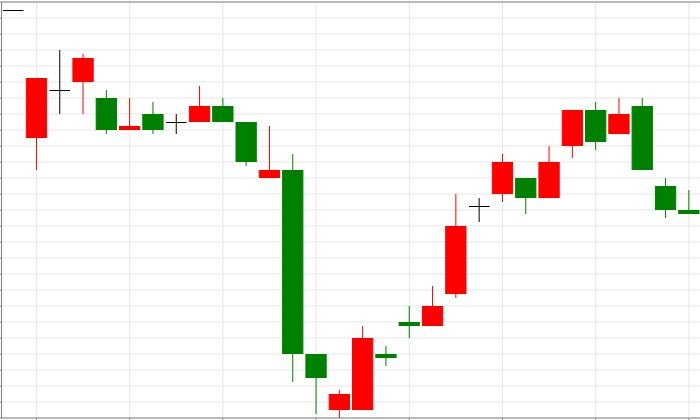bearish_engulfing_fall: (328, 97, 654, 418)
hammer_rise: (212, 98, 326, 415)
